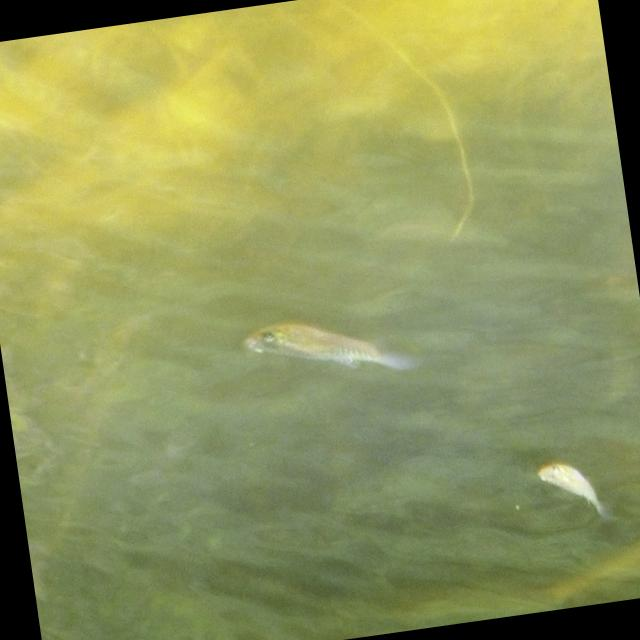Sivrisinek Baligi: (228, 284, 430, 413), (521, 426, 627, 546)
